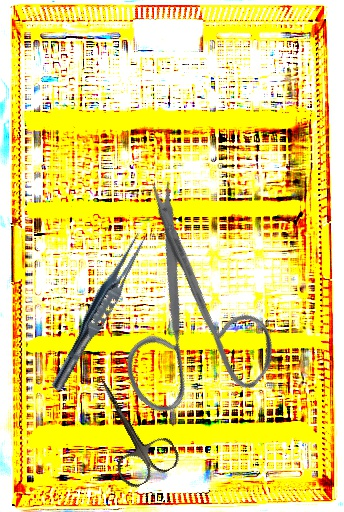Iris Scissors: (41, 173, 322, 451), (74, 362, 184, 492)
Tissue Forceps: (46, 226, 153, 396)
